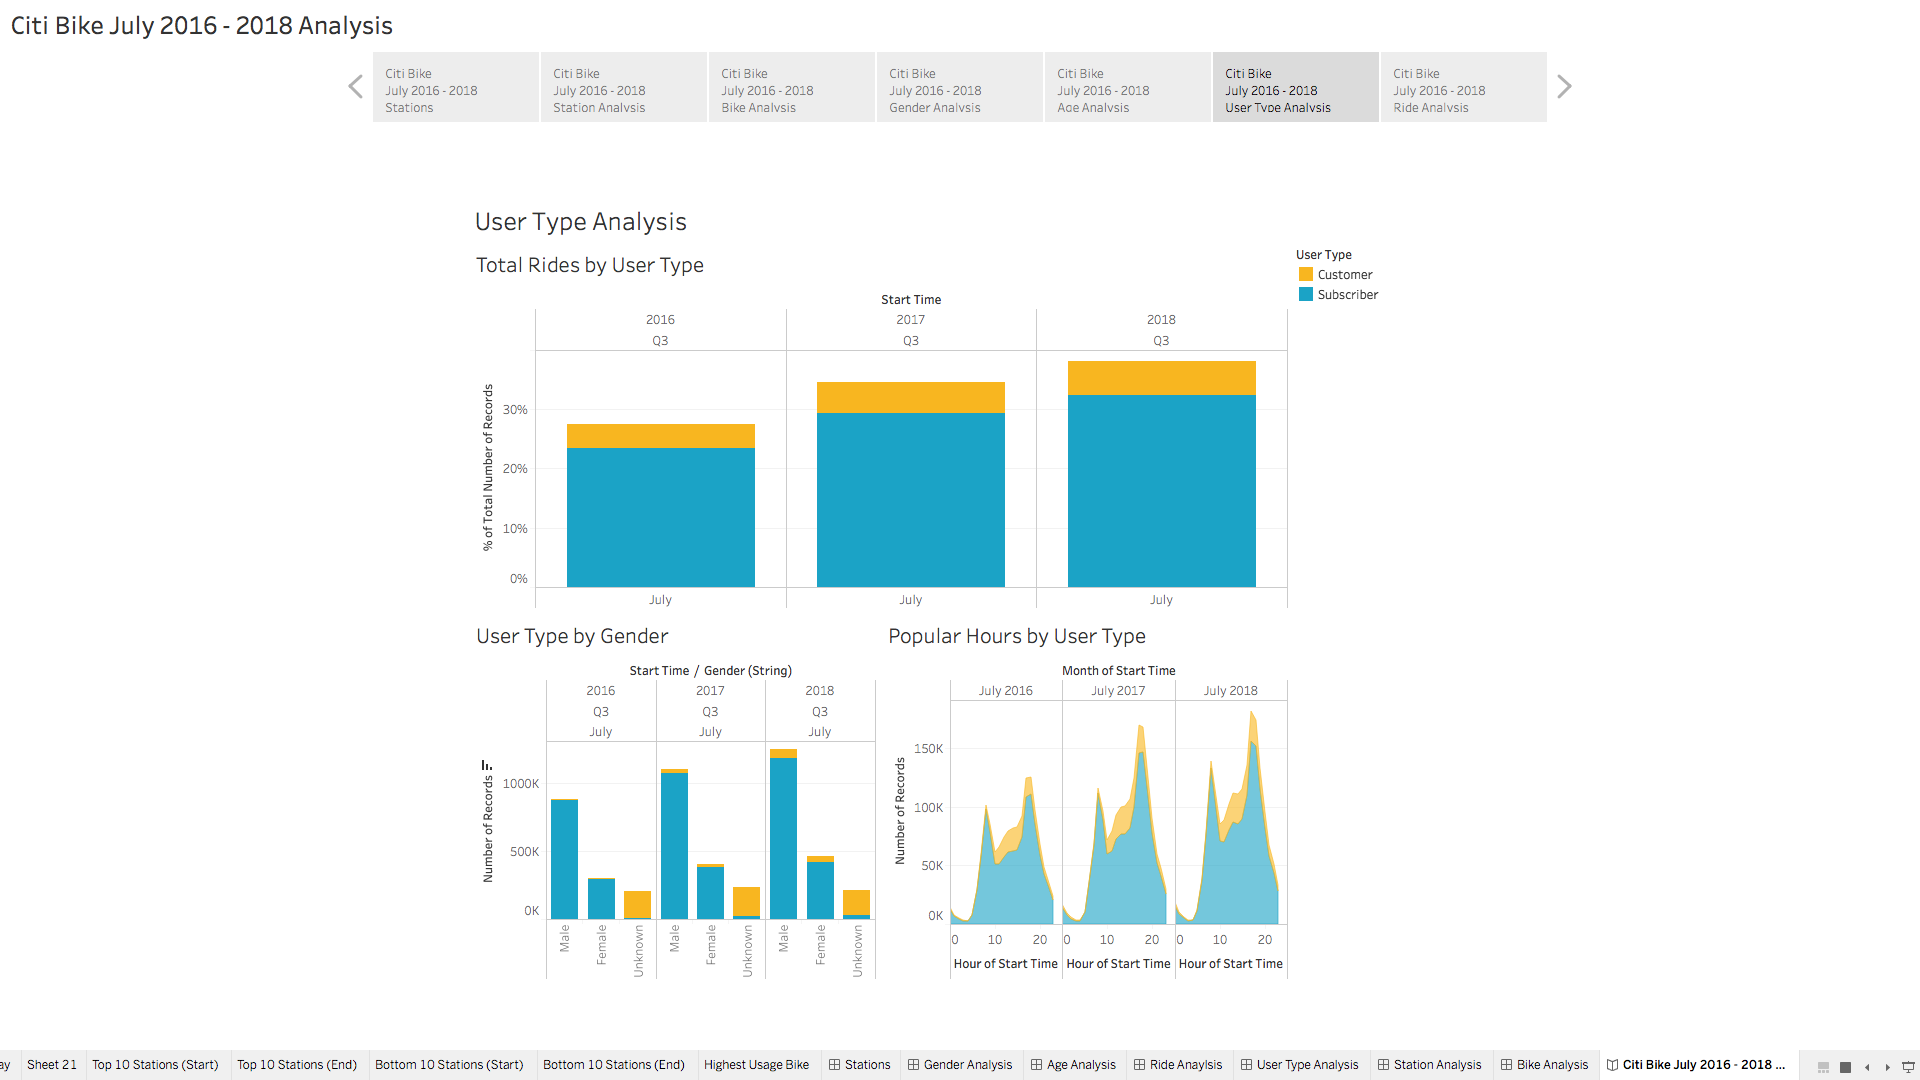

The dashboard page shown, as its layout file describes it:
{"tool":"tableau","page":{"name":"User Type Analysis","canvas":[1000,800],"ordinal":6},"visuals":[{"type":"title","box":[8,8,984,42]},{"type":"worksheet","title":"Total Rides by User Type","mark":"Bar","cols":["Start Time","Start Time","Start Time"],"box":[8,50,824,371]},{"type":"legend","title":"User Type by Gender","param":"[federated.0inejtl1ina4ko10so5a61pe29fi].[none:User Type:nk]","box":[832,50,160,66]},{"type":"worksheet","title":"User Type by Gender","mark":"Automatic","rows":["Number of Records"],"cols":["Start Time","Start Time","Start Time","Calculation_1114218755592523777"],"box":[8,421,412,371]},{"type":"worksheet","title":"Popular Hours by User Type","mark":"Area","rows":["Number of Records"],"cols":["Start Time","Start Time"],"box":[420,421,412,371]}]}

Visuals, with their boxes on the page's 1000x800 design canvas (x1, y1, x2, y2). These are canvas units, not pixel positions in the 1920x1080 screenshot, which may show the page scaled, cropped or inside an application window:
title: [left=8, top=8, right=992, bottom=50]
"Total Rides by User Type" worksheet (Bar marks): [left=8, top=50, right=832, bottom=421]
"User Type by Gender" legend: [left=832, top=50, right=992, bottom=116]
"User Type by Gender" worksheet: [left=8, top=421, right=420, bottom=792]
"Popular Hours by User Type" worksheet (Area marks): [left=420, top=421, right=832, bottom=792]
